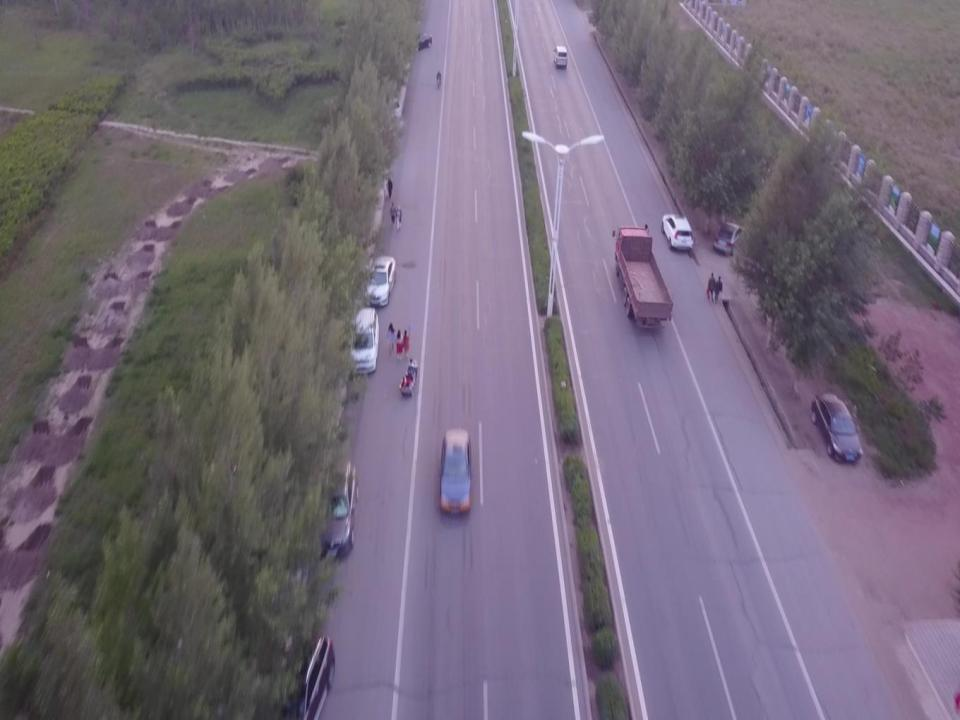car: (269, 630, 336, 720), (310, 458, 358, 558), (811, 393, 863, 463), (438, 427, 473, 515), (349, 306, 380, 374), (364, 254, 396, 307), (713, 218, 747, 256), (661, 213, 694, 250), (408, 31, 432, 52), (713, 275, 723, 304), (708, 271, 714, 301)
truck: (612, 223, 672, 329)
van: (364, 95, 404, 130), (552, 45, 568, 70)
